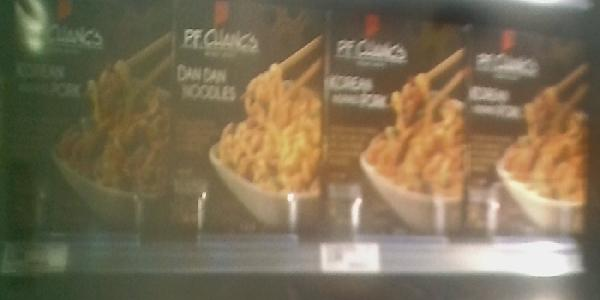pizza1: (3, 1, 170, 233), (172, 1, 325, 239), (323, 1, 466, 238), (465, 13, 600, 239)
